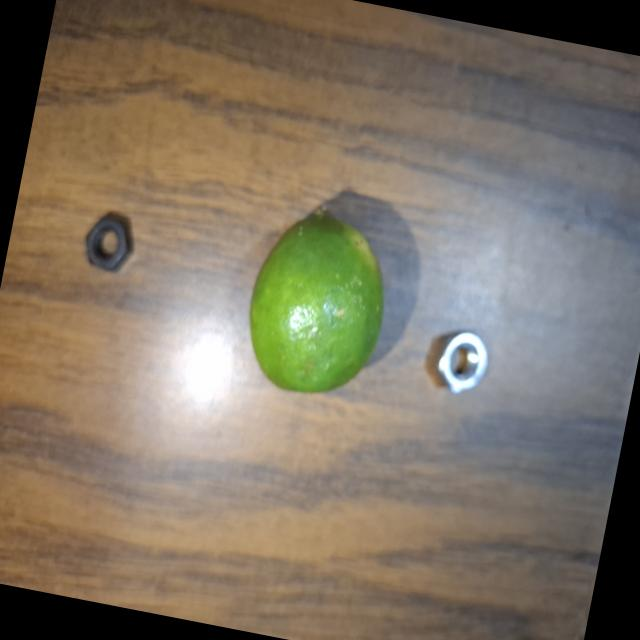limon: (221, 193, 403, 413)
milimetrico: (72, 204, 142, 282)
tuerca: (424, 317, 498, 410)
